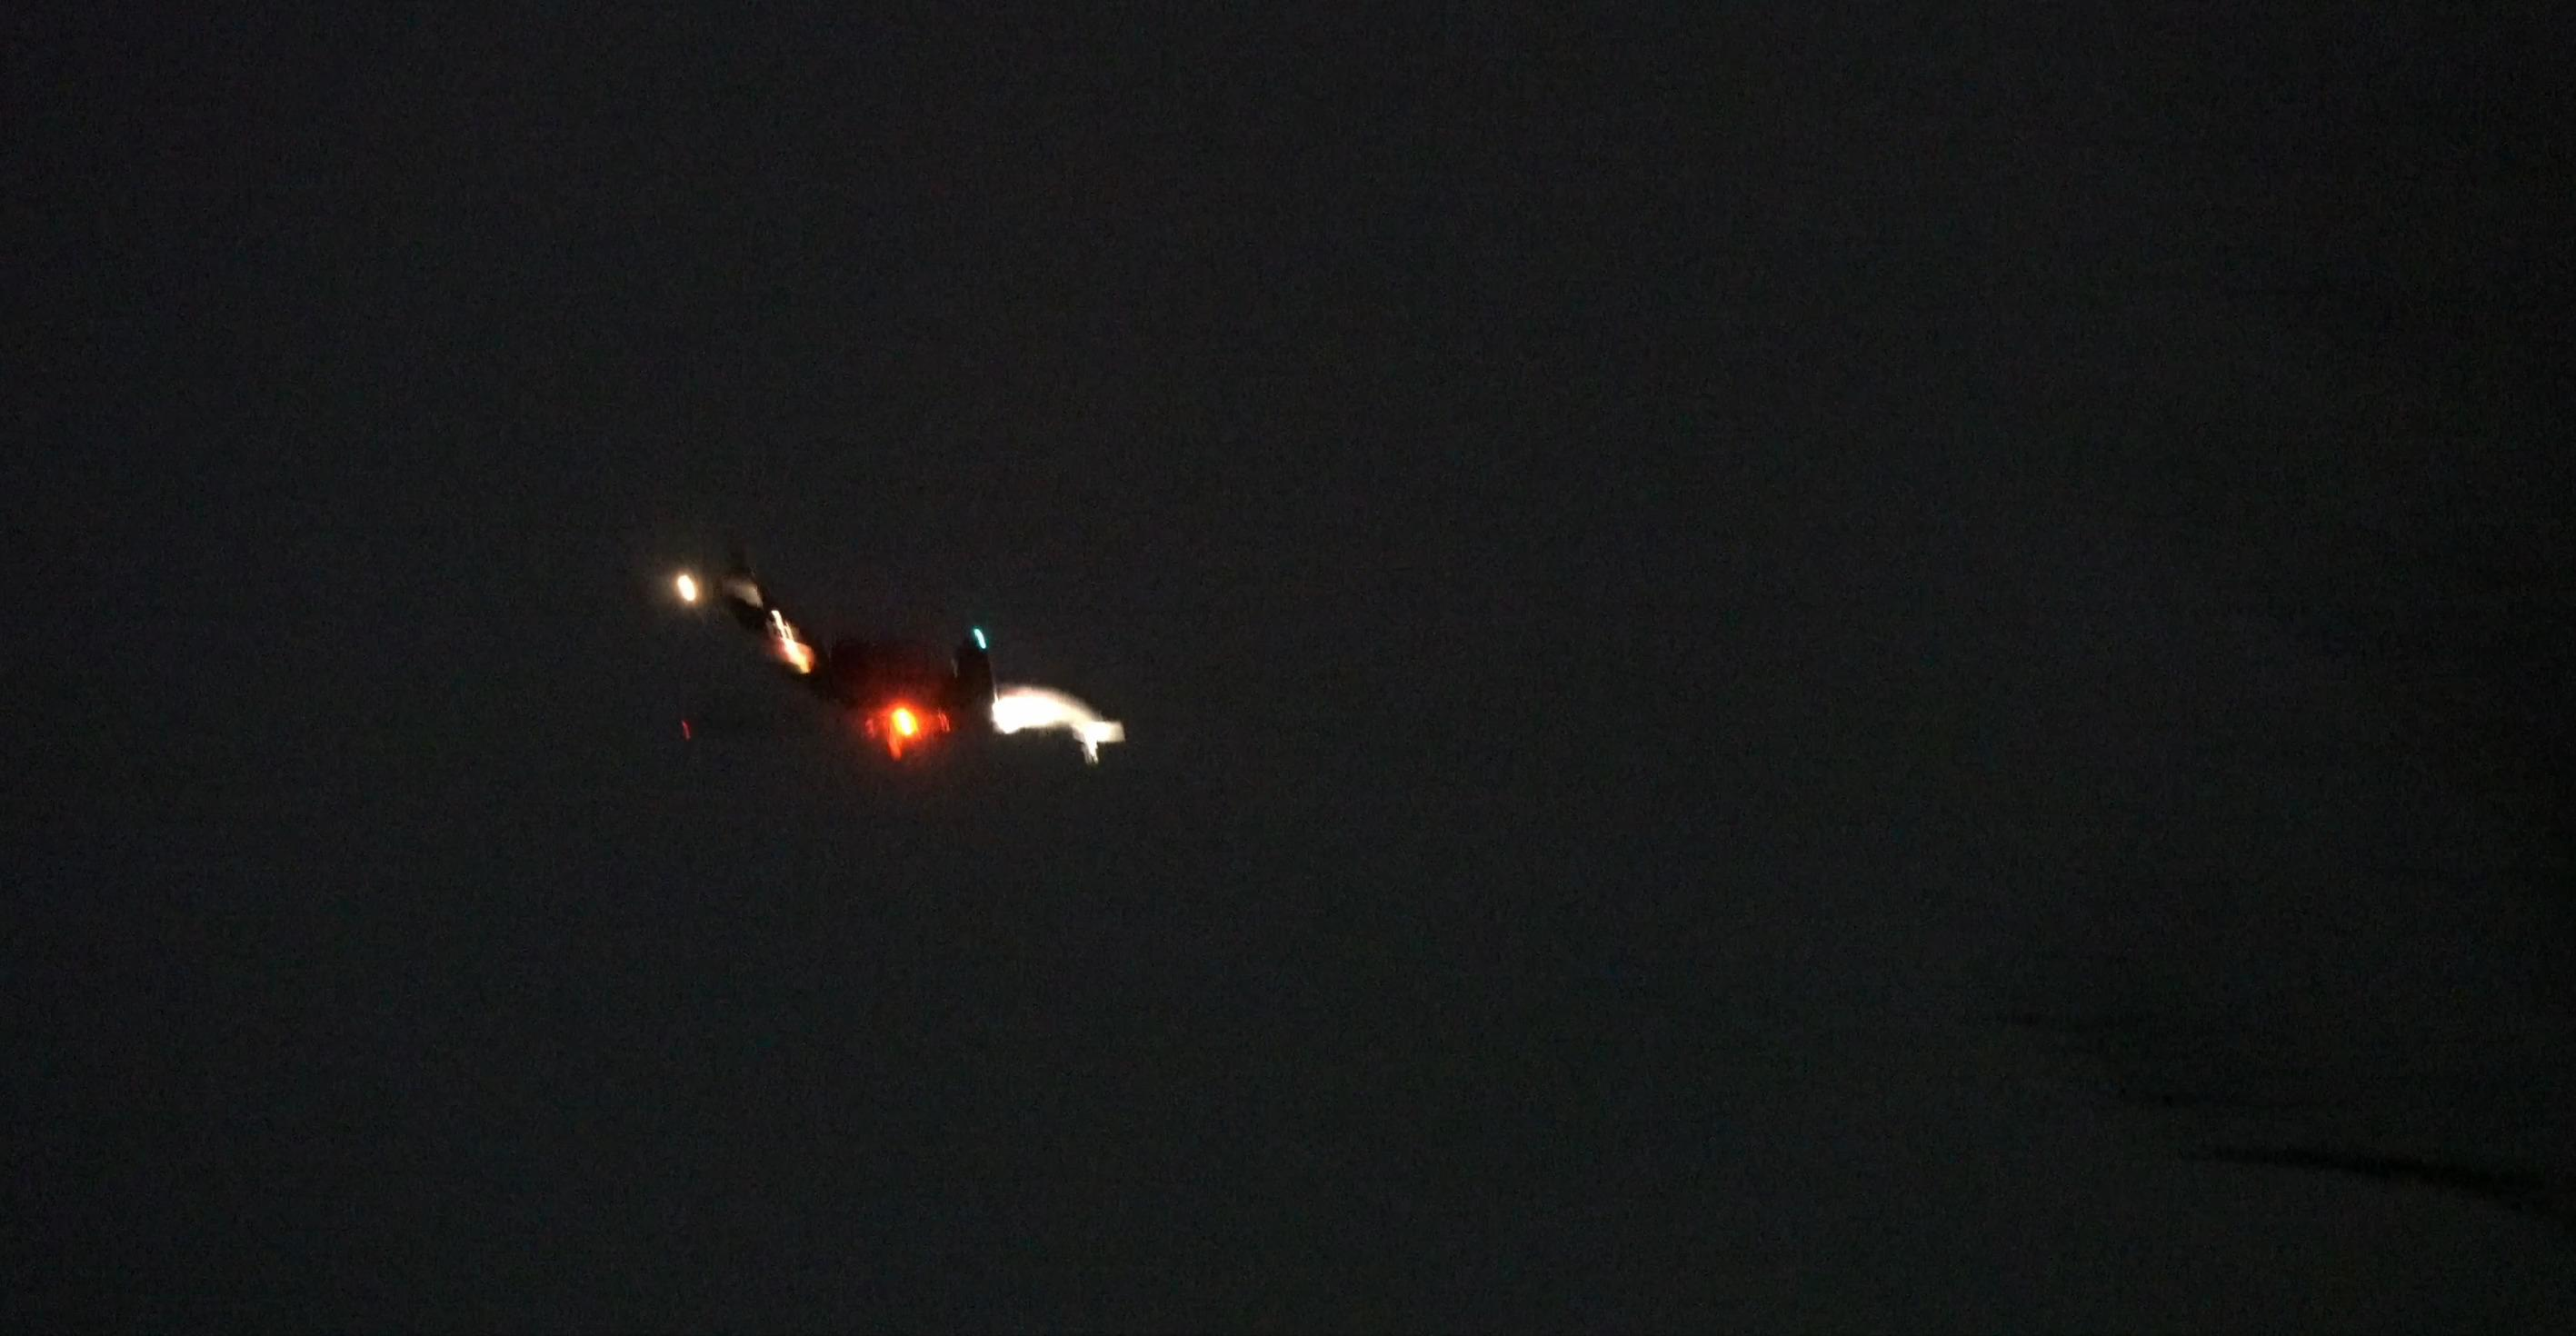Plane: (738, 578, 1148, 787)
